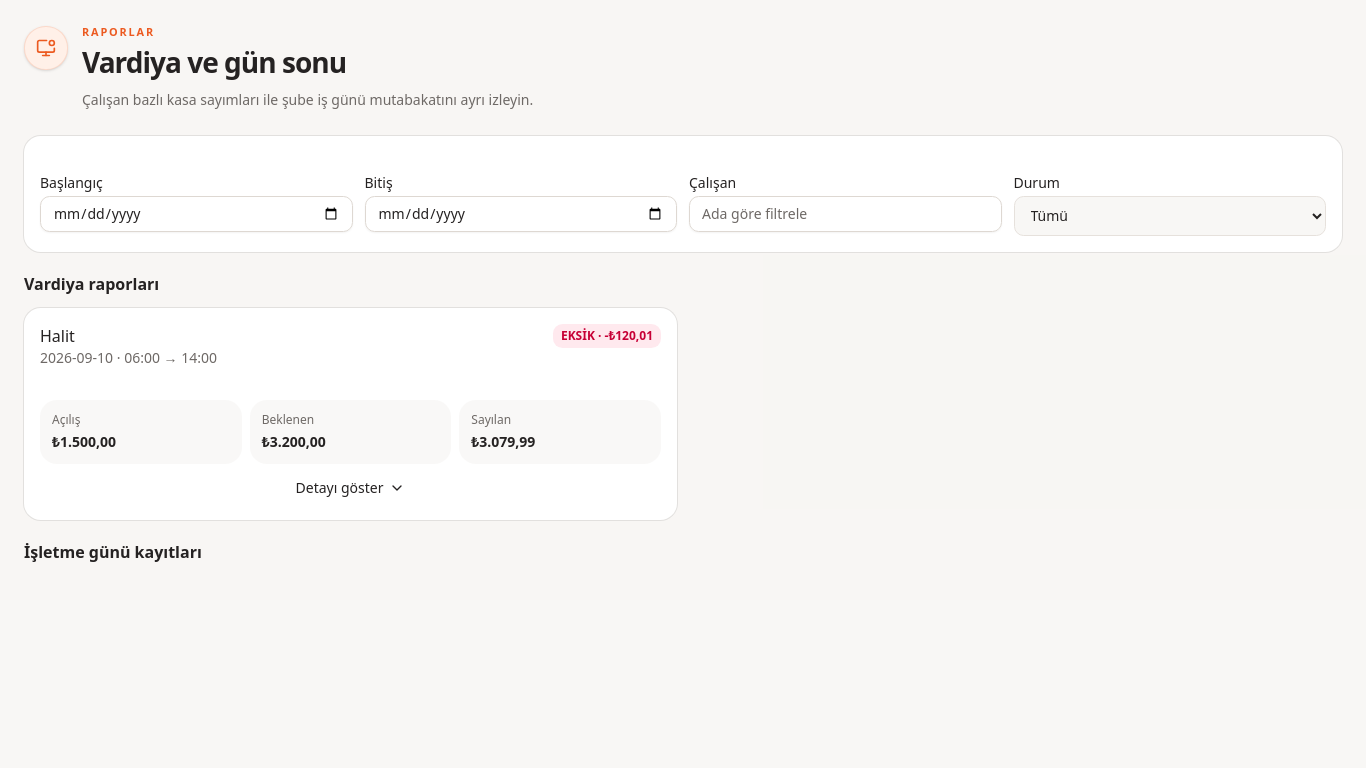
ShiftHistory › shows the cashier, expected/count values and a shortage label
Expected: the text "Halit" is shown, [40,325,75,347]
Expected: the text "EKSİK · -₺120,01" is shown, [553,324,661,348]
Click the button "Detayı göster" at (350, 488), box [40,472,661,504]
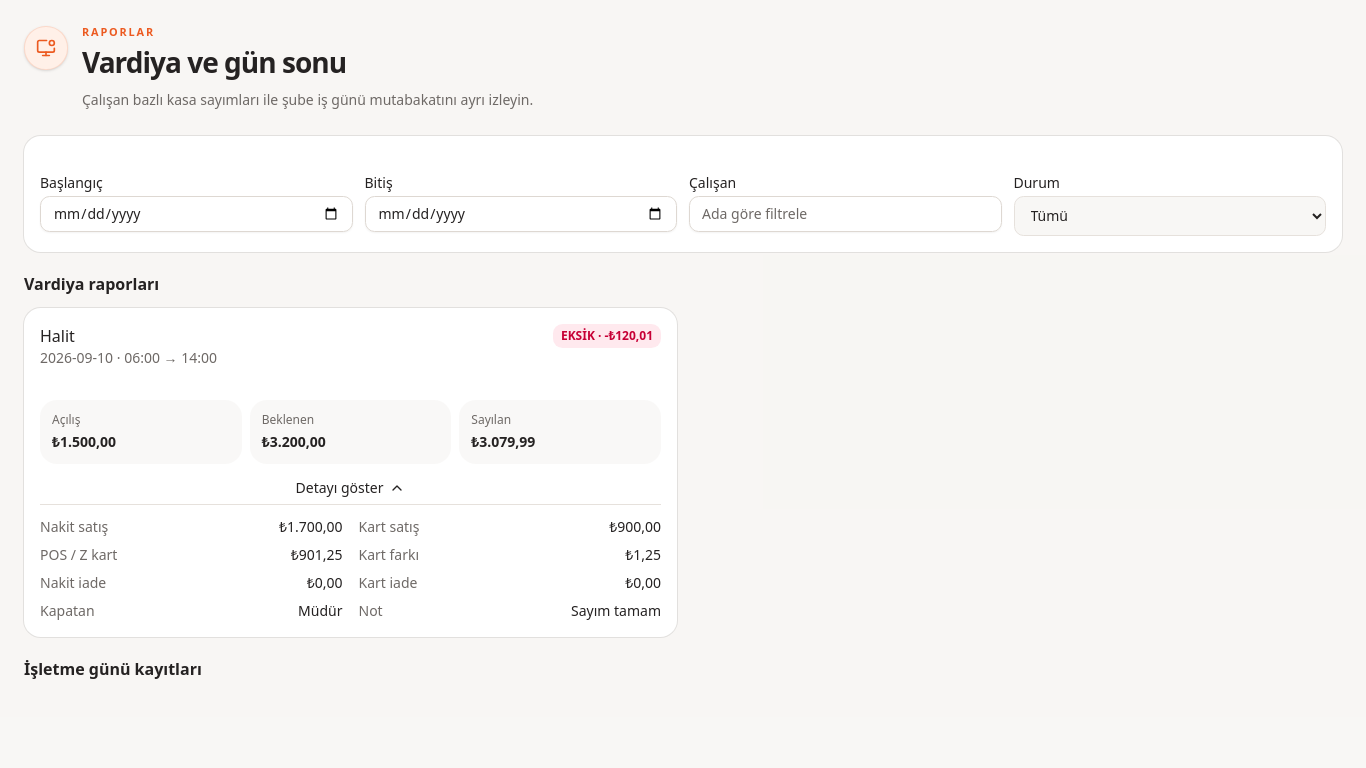
Result: the text "POS / Z kart" is shown at [40,545,117,565]
Result: the text "₺901,25" is shown at [291,545,342,565]
Result: the text "Kart farkı" is shown at [358,545,419,565]
